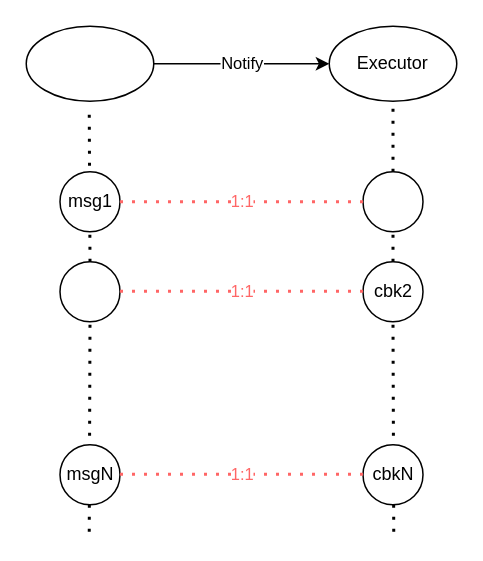
The diagram is 483 pixels wide and 561 high, and some of its shapes have lost their labels. The centre of each missing label's shape, as x and y in pixels:
cbk1: the point at 392,201
msg2: the point at 89,291
Subscriber: the point at 89,63
